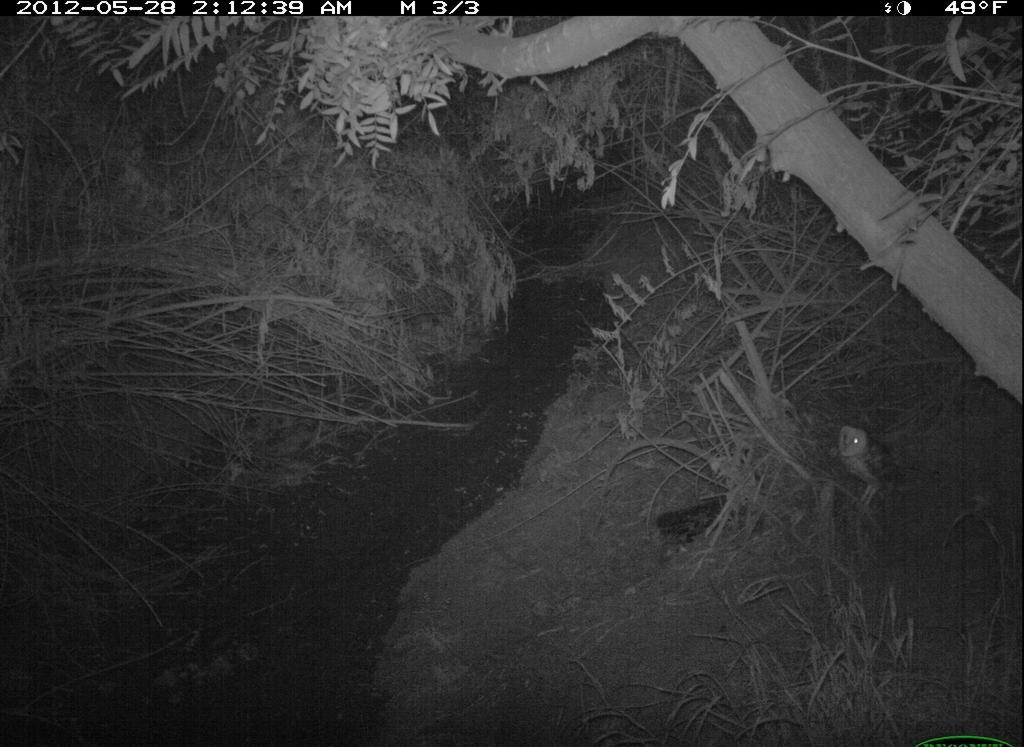bird: (832, 421, 919, 514)
